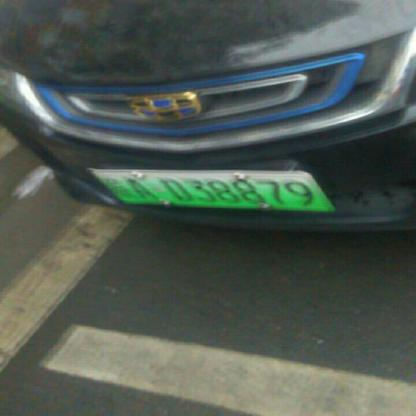lp: (90, 168, 334, 211)
